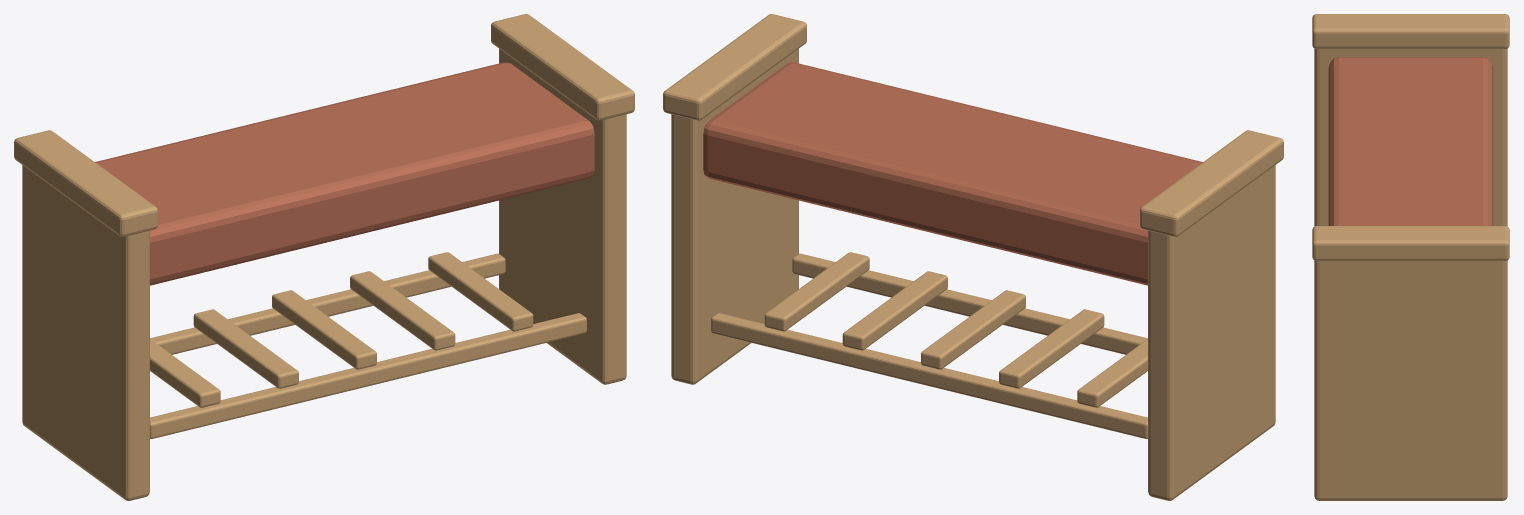
The model's file is entry-bench-v1.glb.
The picture shows the model from 3 angles, left to right: view 1: azimuth 30°, elevation 25°; view 2: azimuth 150°, elevation 25°; view 3: azimuth 270°, elevation 25°; orthographic projection. The views are drawn at different scales.
Parts seen in each view (by area): view 1: long-seat, side-frame, side-frame.001, shelf-rail-back, top-frame.001, top-frame, shelf-rail-front, shelf-slat.001, shelf-slat.003, shelf-slat.004, shelf-slat.002, shelf-slat; view 2: long-seat, side-frame, side-frame.001, shelf-rail-front, top-frame.001, top-frame, shelf-rail-back, shelf-slat.001, shelf-slat.003, shelf-slat.004, shelf-slat.002, shelf-slat; view 3: side-frame.001, long-seat, top-frame, top-frame.001, side-frame.
Boxes of the visible parts, x1,y1,x2,y2 form: long-seat: (95,62,594,285); side-frame: (22,165,149,500); side-frame.001: (499,48,626,384); shelf-rail-back: (150,313,586,438); top-frame.001: (491,14,634,120); top-frame: (14,130,157,236); shelf-rail-front: (150,253,505,354); shelf-slat.001: (193,309,298,388); shelf-slat.003: (350,271,455,350); shelf-slat.004: (428,252,533,331); shelf-slat.002: (272,290,376,369); shelf-slat: (150,339,220,407); long-seat: (703,62,1202,285); side-frame: (1148,165,1275,500); side-frame.001: (671,48,798,384); shelf-rail-front: (711,313,1147,438); top-frame.001: (663,14,806,120); top-frame: (1140,130,1283,236); shelf-rail-back: (792,253,1147,354); shelf-slat.001: (999,309,1104,388); shelf-slat.003: (842,271,947,350); shelf-slat.004: (764,252,869,331); shelf-slat.002: (921,290,1025,369); shelf-slat: (1077,339,1147,407); side-frame.001: (1314,260,1507,500); long-seat: (1328,57,1493,225); top-frame: (1312,14,1509,48); top-frame.001: (1312,226,1509,260); side-frame: (1314,48,1507,226).
Size of the model in its own units: 1.32 by 0.7075 by 0.48.
